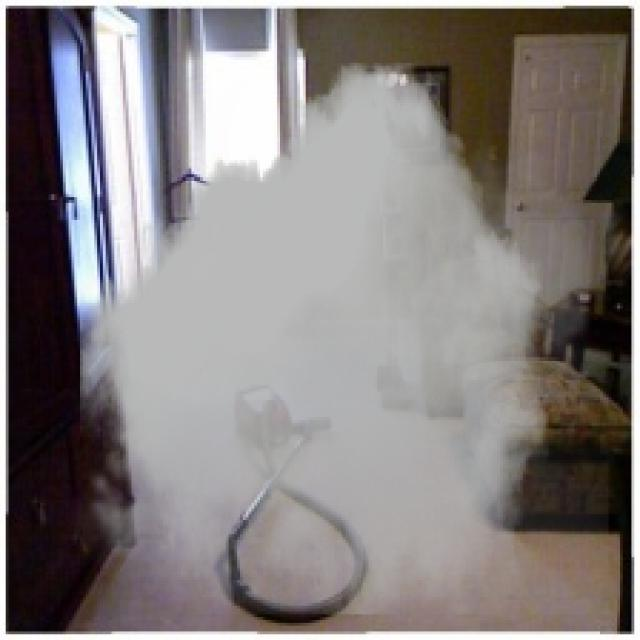smoke: (71, 63, 608, 614)
